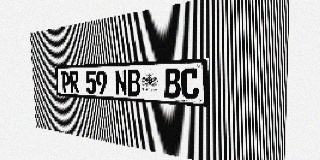5: (86, 71, 96, 94)
9: (96, 70, 107, 95)
B: (164, 68, 181, 99), (127, 69, 141, 97)
C: (181, 68, 199, 100)
N: (115, 70, 127, 96)
P: (61, 71, 70, 93)
R: (69, 71, 79, 93)
